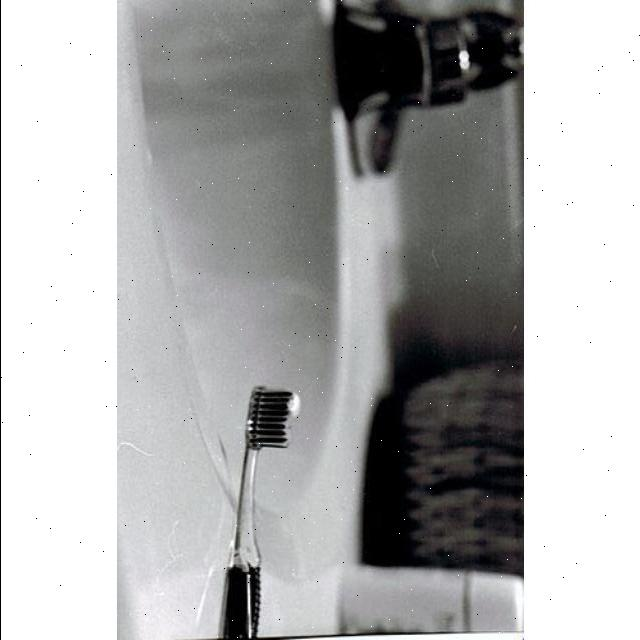toothbrush: (132, 2, 352, 526), (223, 390, 301, 640)
